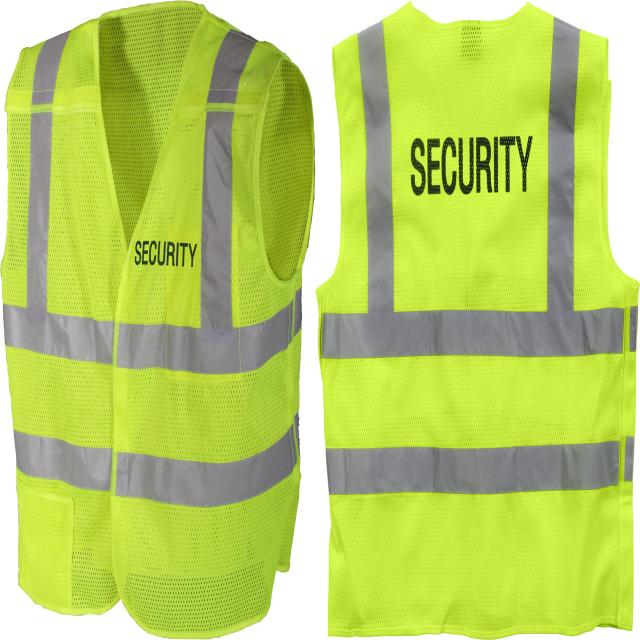Reflective-Jacket: (302, 0, 640, 640), (1, 0, 323, 640)
